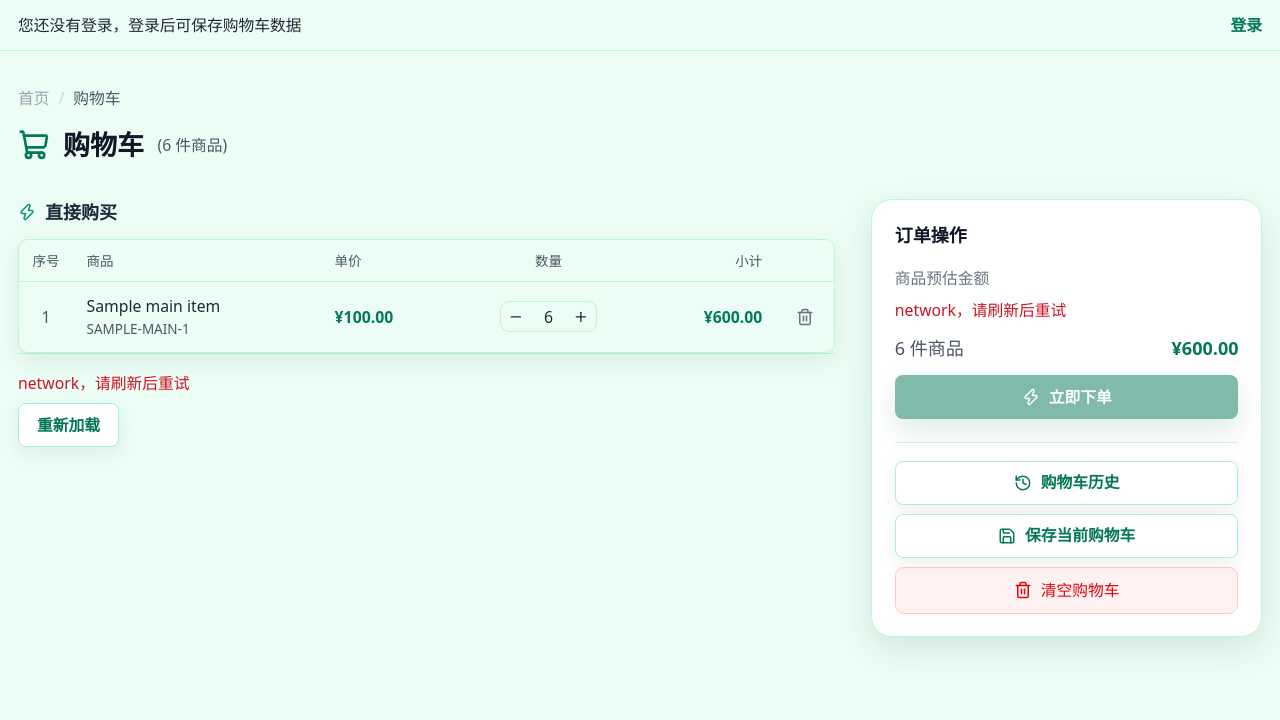
Test case: 购物车合成加购交互 › 加载失败显示重试入口
Step 1. Click the button "重新加载" → (68, 425), box [18,403,119,447]
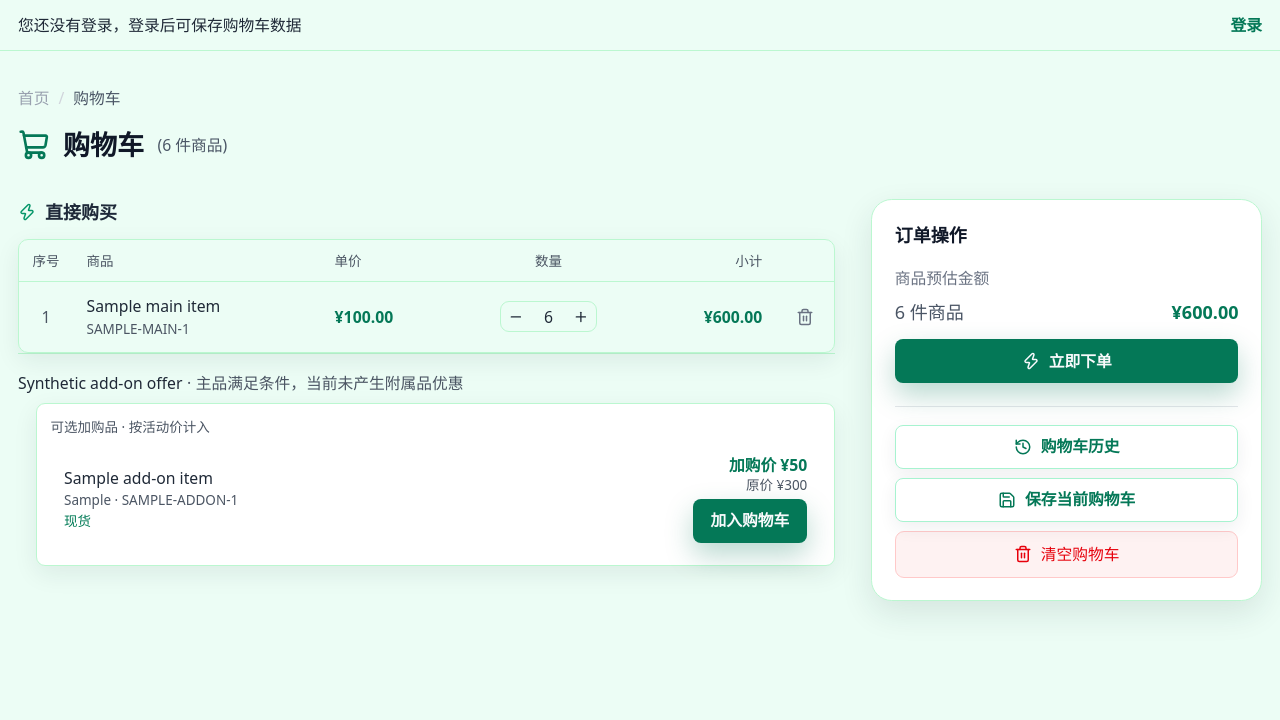
Check: the text "加购价 ¥50" is shown, box [729,454,807,476]
